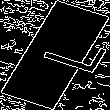L_NW: (14, 30, 96, 80)
